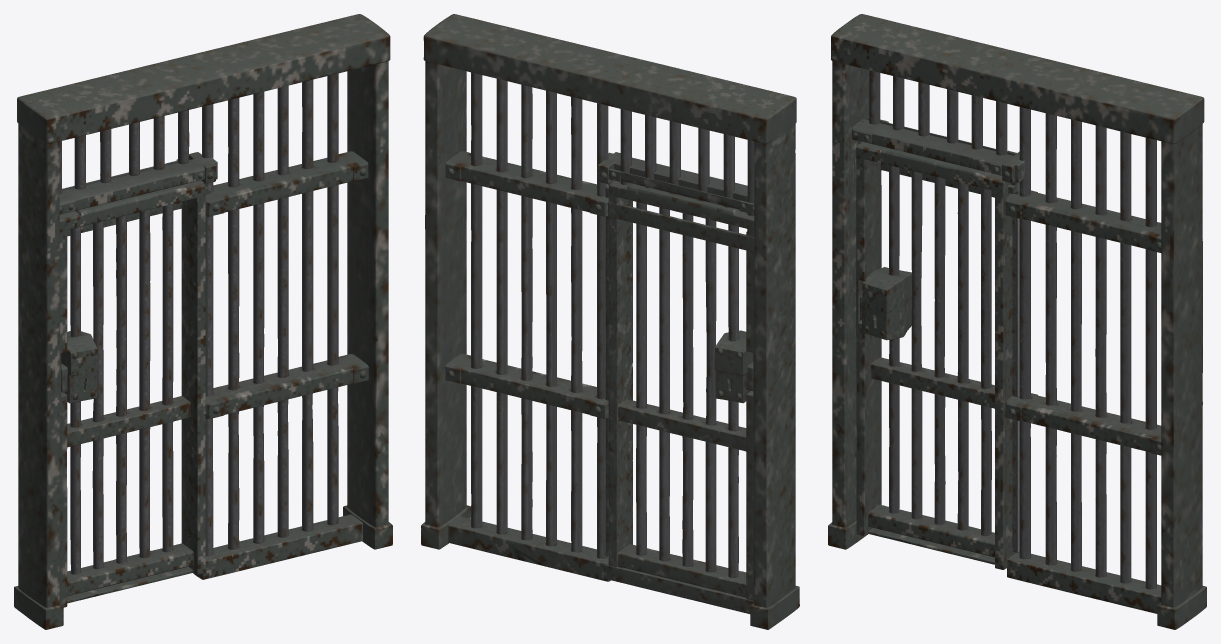
The model's file is Meshy_AI_model.glb.
The picture shows the model from 3 angles, left to right: view 1: azimuth 30°, elevation 25°; view 2: azimuth 150°, elevation 25°; view 3: azimuth 330°, elevation 25°; orthographic projection.
Size of the model in its own units: 1.36 by 1.9 by 0.2176.
1 material, 1 textured.
